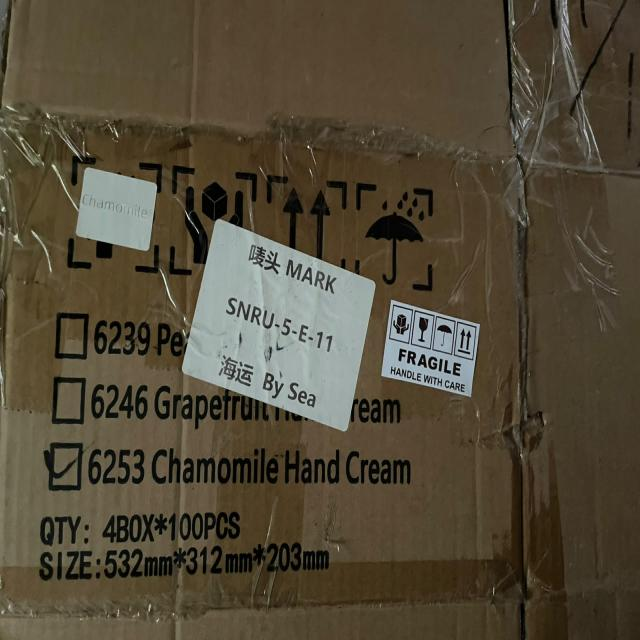carton_box: (0, 83, 640, 640)
export_mark_label: (188, 215, 376, 447)
fragile_label: (379, 342, 472, 399), (414, 307, 433, 346)
handle_with_care_label: (170, 162, 262, 273), (388, 300, 410, 344)
keep_dry_label: (358, 179, 444, 301), (437, 308, 454, 354)
package_damage: (480, 0, 570, 619)
this_side_up_label: (265, 172, 356, 280), (452, 314, 482, 364)
